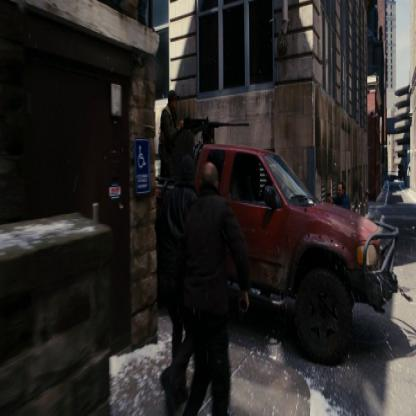Gun: (181, 113, 252, 148)
